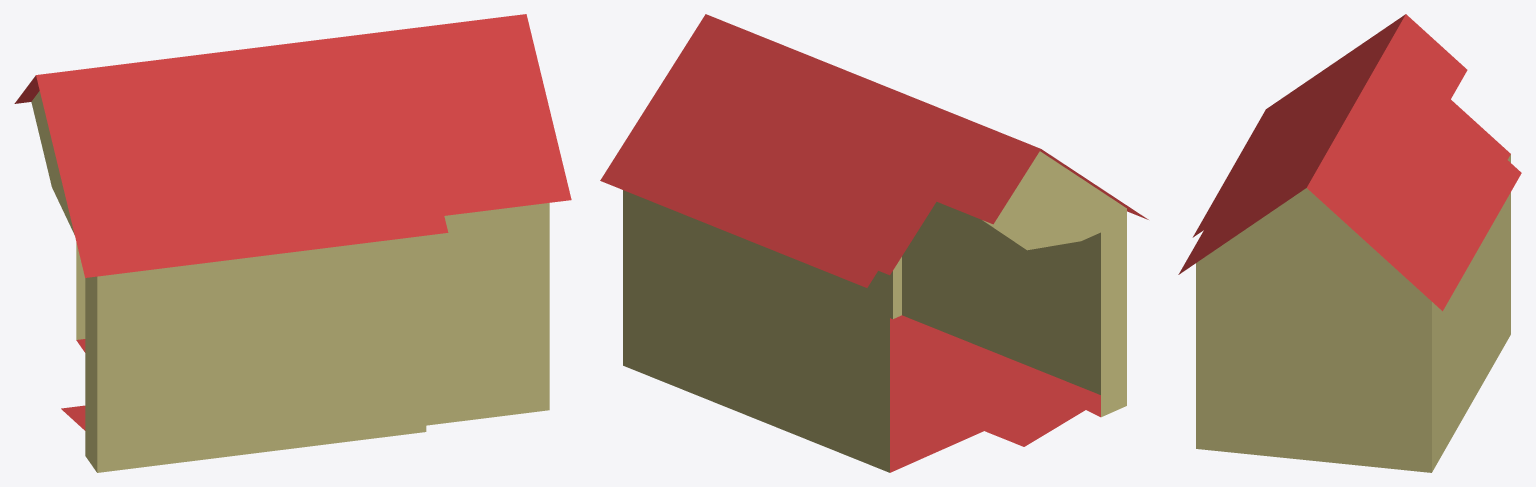
The picture shows the model from 3 angles, left to right: view 1: azimuth 30°, elevation 25°; view 2: azimuth 150°, elevation 25°; view 3: azimuth 270°, elevation 25°; orthographic projection. The views are drawn at different scales.
Bounding box in the file's own units: 24.37 × 17.51 × 15.67.
